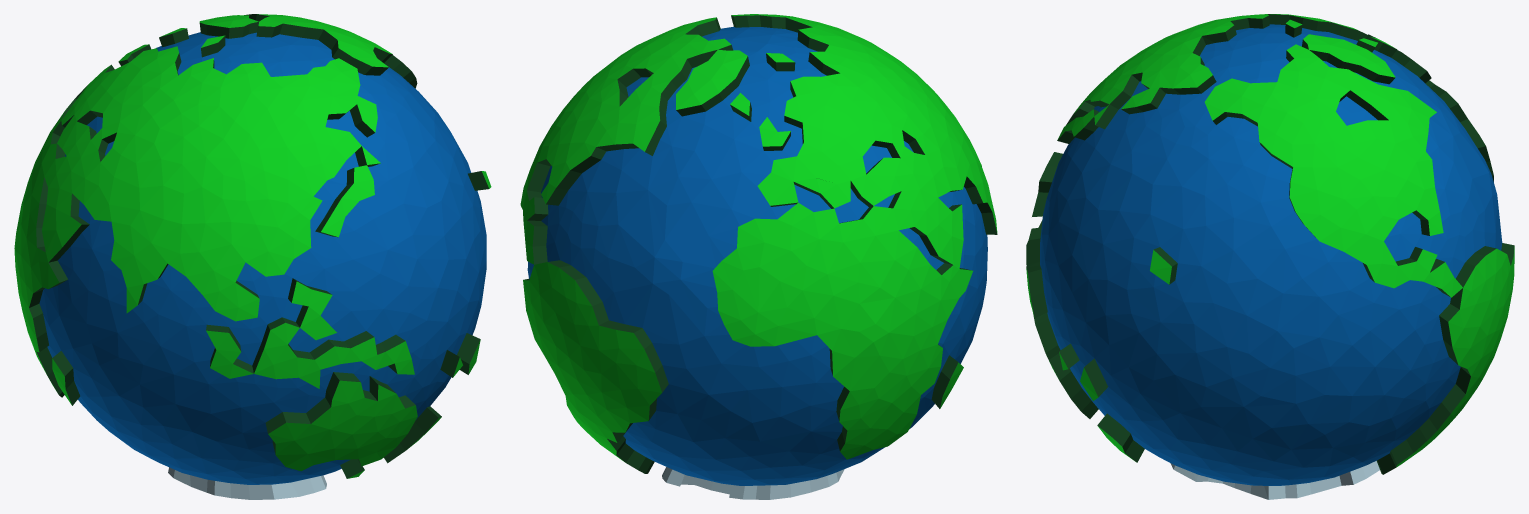
File: earth.obj
3 renders of one model, left to right at view 1: azimuth 30°, elevation 25°; view 2: azimuth 150°, elevation 25°; view 3: azimuth 270°, elevation 25°, orthographic.
Visible parts, largest first — view 1: Sphere_Sphere.002; view 2: Sphere_Sphere.002; view 3: Sphere_Sphere.002.
Part boxes in pixels (x1,y1,x2,y2): Sphere_Sphere.002: [14, 14, 491, 499]; Sphere_Sphere.002: [520, 14, 997, 499]; Sphere_Sphere.002: [1026, 14, 1514, 499].
Size of the model in its own units: 2.04 by 2.11 by 2.11.
